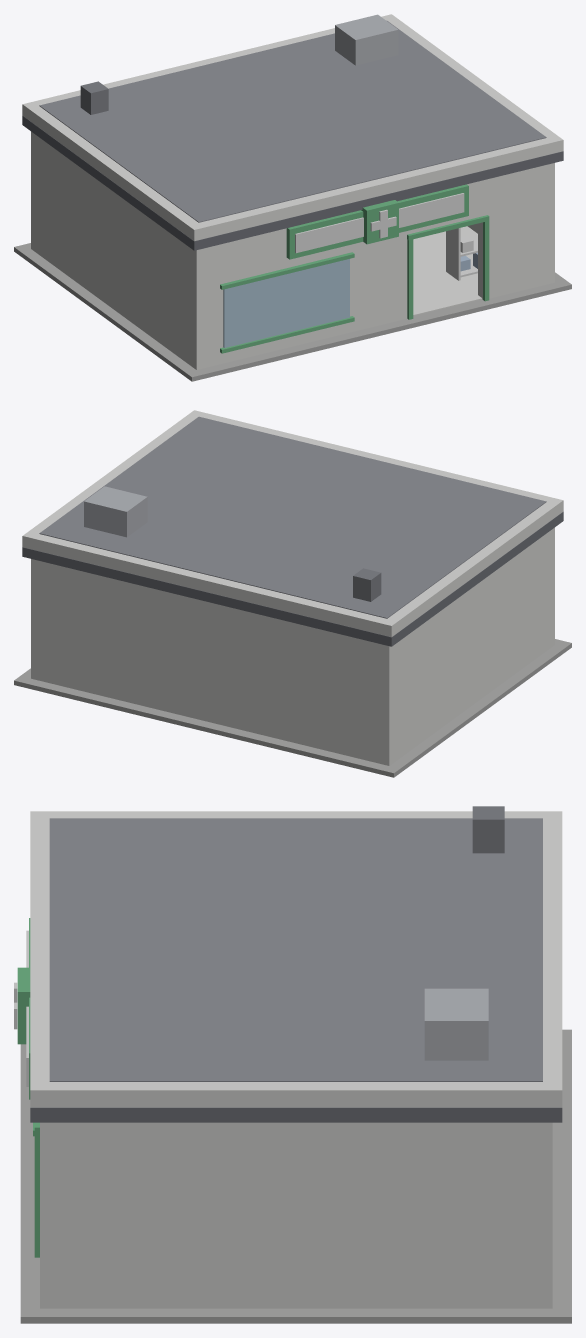
The model's file is Dukkan_Eczane.glb.
The picture shows the model from 3 angles, top to bottom: view 1: azimuth 30°, elevation 25°; view 2: azimuth 150°, elevation 25°; view 3: azimuth 270°, elevation 25°; orthographic projection. The views are drawn at different scales.
Parts seen in each view (by area): view 1: Dukkan_Eczane; view 2: Dukkan_Eczane; view 3: Dukkan_Eczane.
Boxes of the visible parts, x1,y1,x2,y2 form: Dukkan_Eczane: (14, 14, 571, 381); Dukkan_Eczane: (14, 410, 571, 777); Dukkan_Eczane: (14, 806, 571, 1323).
Bounding box in the file's own units: 10.6 × 4.65 × 8.71.
